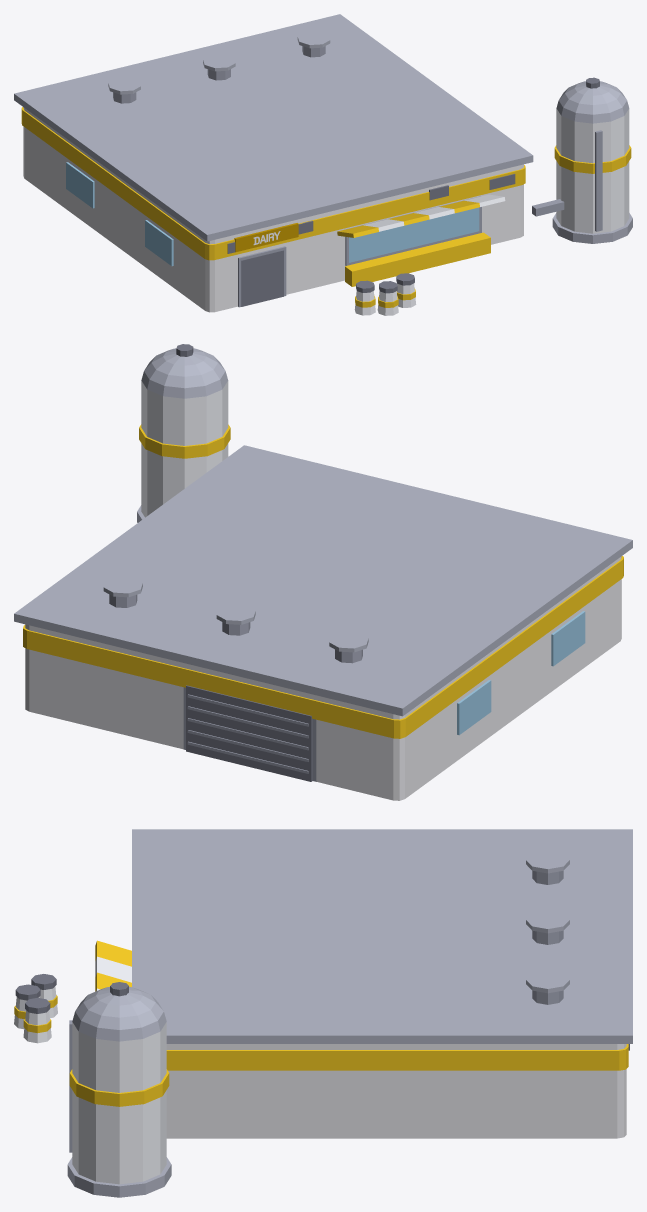
The model's file is dairy-2x2-t1-tone-a.glb.
3 views of the same model, one above another, from view 1: azimuth 30°, elevation 25°; view 2: azimuth 150°, elevation 25°; view 3: azimuth 270°, elevation 25° (orthographic). The views are drawn at different scales.
Parts seen in each view (by area): view 1: dairy-2x2-t1-tone-a; view 2: dairy-2x2-t1-tone-a; view 3: dairy-2x2-t1-tone-a.
Part boxes in pixels (box(x1,y1,x2,y2)): dairy-2x2-t1-tone-a: box(14, 14, 632, 315); dairy-2x2-t1-tone-a: box(14, 344, 632, 800); dairy-2x2-t1-tone-a: box(14, 829, 632, 1197).
Bounding box in the file's own units: 1.98 × 0.665 × 1.97.
Materials: 1 (1 with a texture image).
